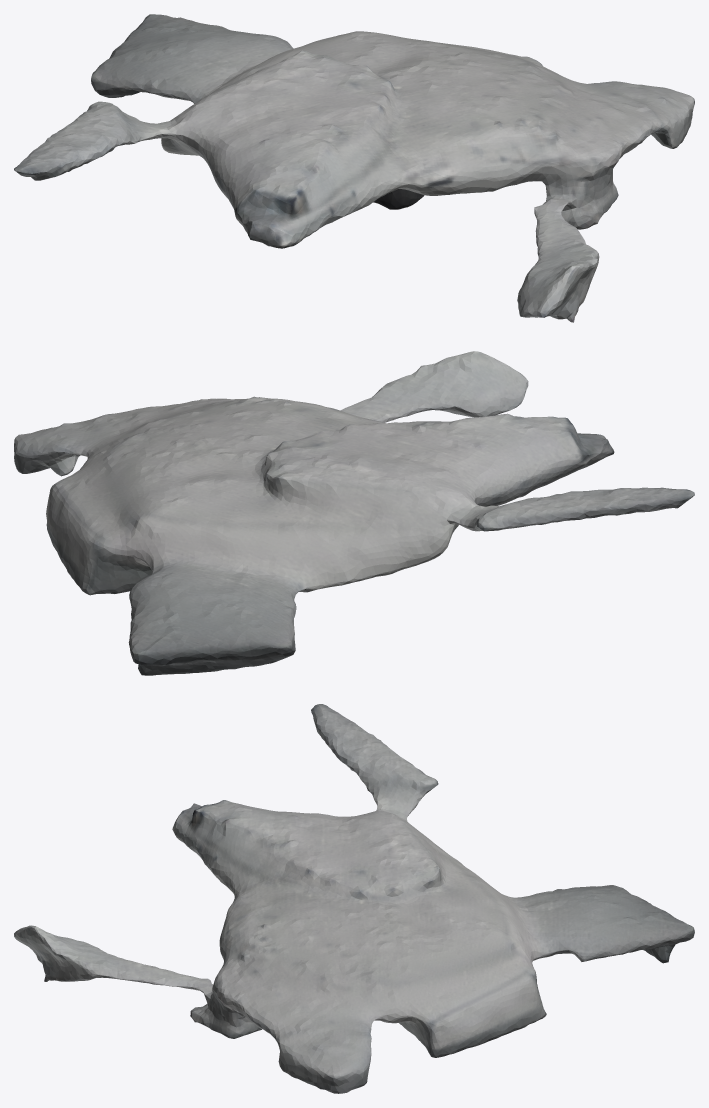
Rendered from IMG_SEG_09.glb.
The picture shows the model from 3 angles, top to bottom: view 1: azimuth 30°, elevation 25°; view 2: azimuth 150°, elevation 25°; view 3: azimuth 270°, elevation 25°; orthographic projection. The views are drawn at different scales.
Bounding box in the file's own units: 1.2 × 0.2242 × 1.21.
Materials: 1 (1 with a texture image).
